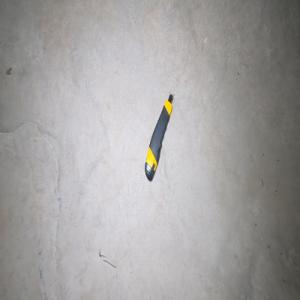Cutter: (144, 94, 174, 182)
